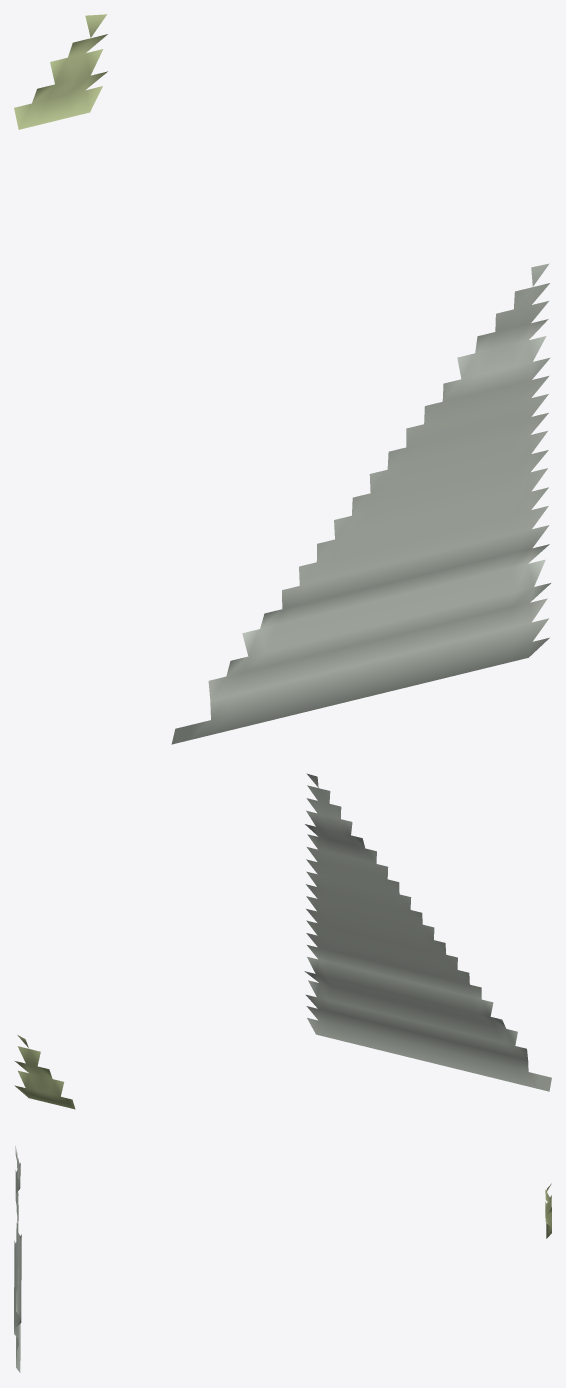
The model's file is tile_7e4ccbd5fe0e_0_-2_-1_0_lod0.glb.
The picture shows the model from 3 angles, top to bottom: view 1: azimuth 30°, elevation 25°; view 2: azimuth 150°, elevation 25°; view 3: azimuth 270°, elevation 25°; orthographic projection. The views are drawn at different scales.
Size of the model in its own units: 1.68 by 1.68 by 3.49.
